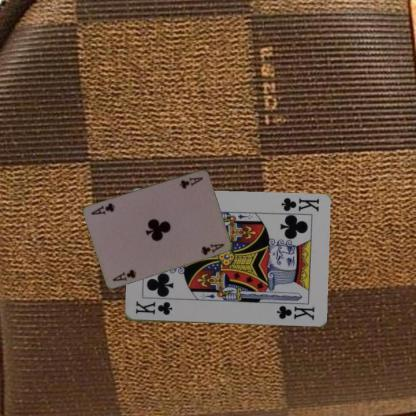Ac: (110, 266, 138, 282), (178, 174, 204, 190)
Kc: (277, 195, 320, 213), (133, 298, 173, 316)
